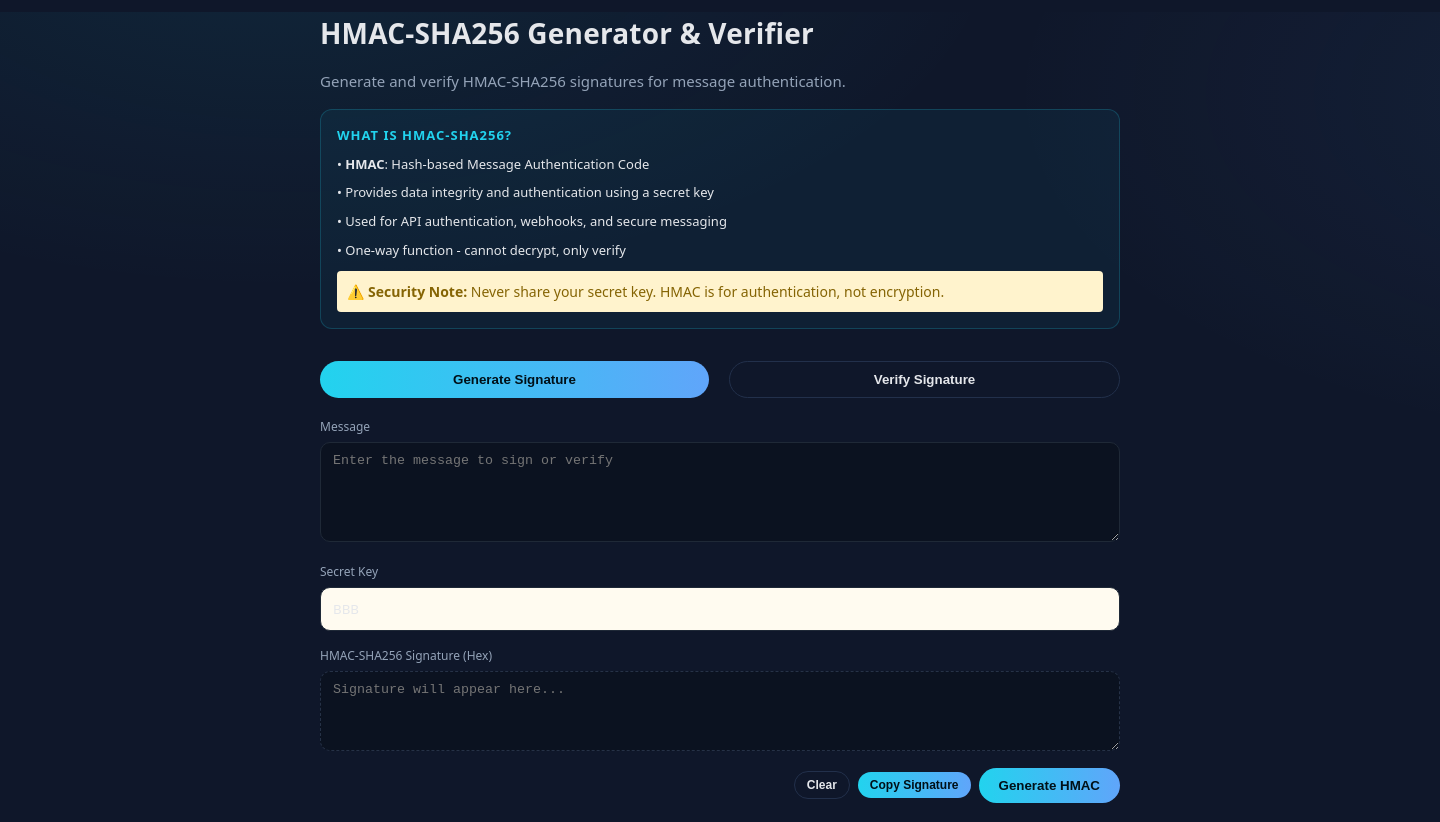
Test case: HmacSha256Tool › shows error when message is empty
The image size is (1440, 822).
Click the button "Generate HMAC": (1049, 785) [978,768,1120,803]
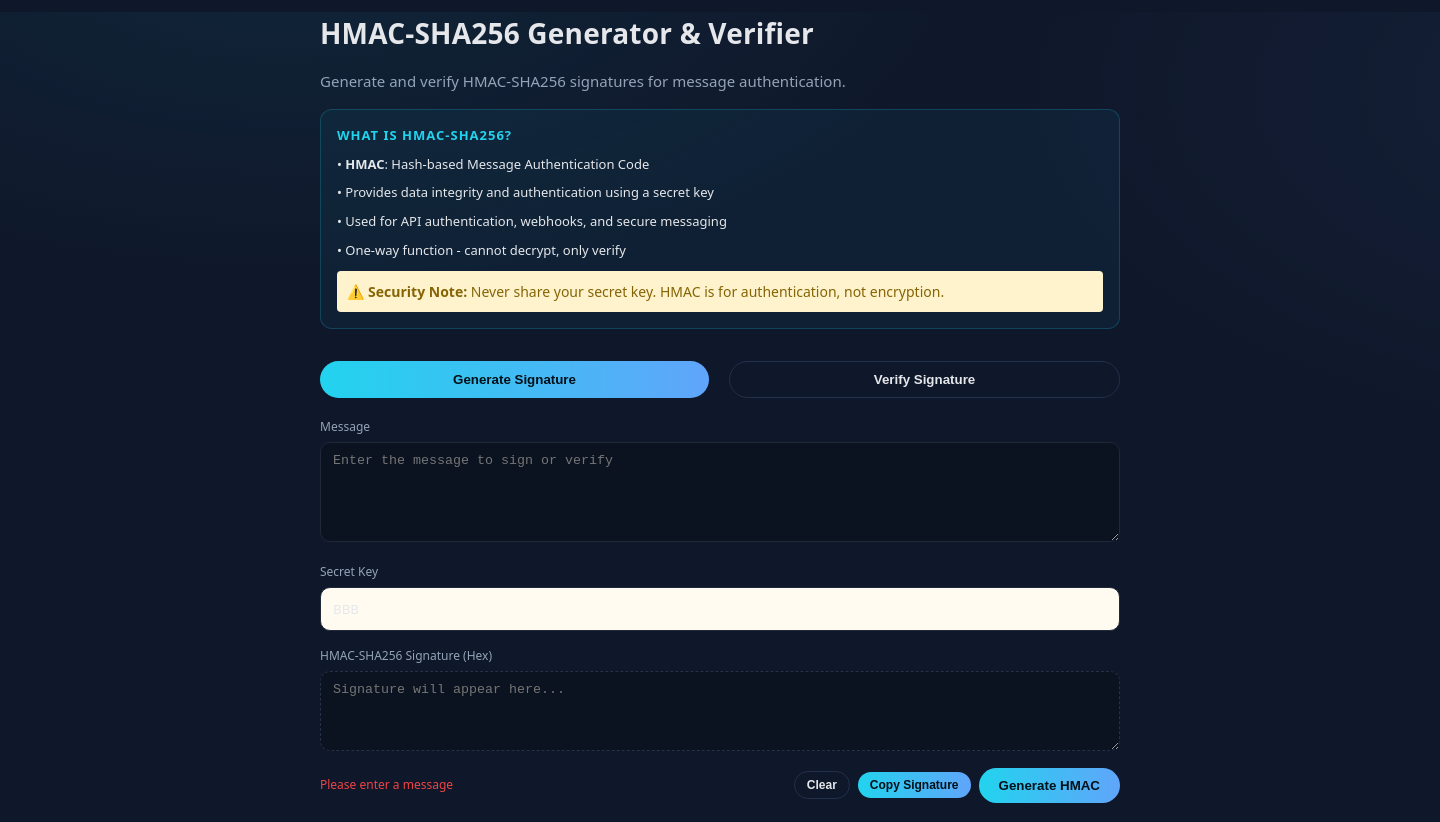
Result: the text "Please enter a message" is shown at [320,776,453,794]
